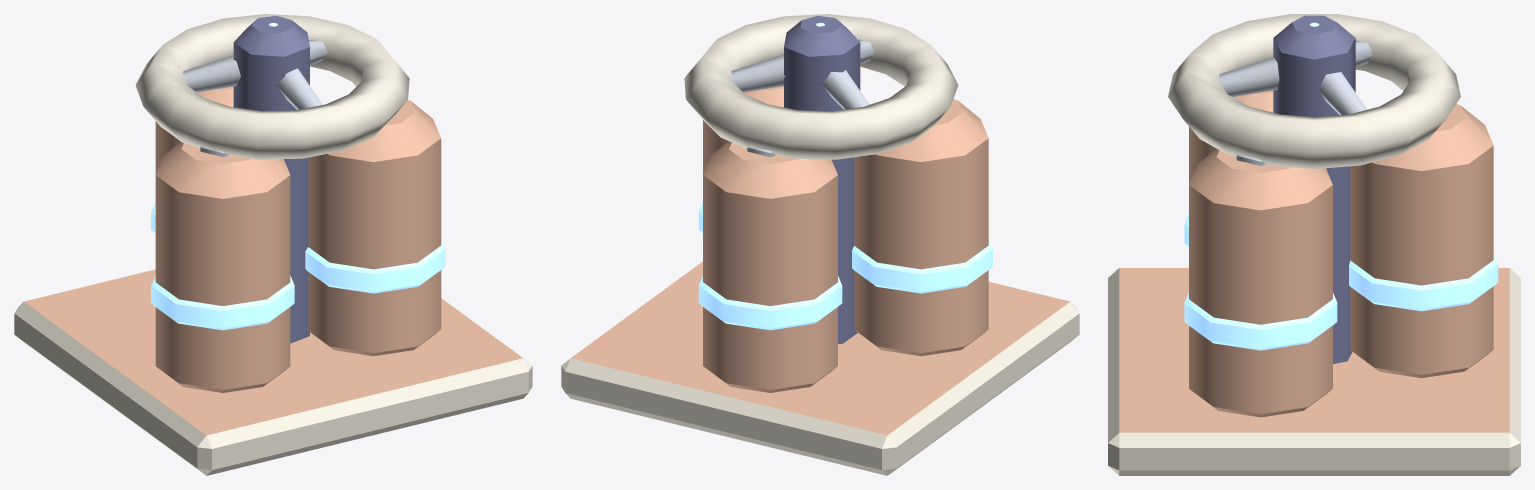
File: R4X_ChargeRegenerator_LOD1.fbx
3 views of the same model, side by side, from view 1: azimuth 30°, elevation 25°; view 2: azimuth 150°, elevation 25°; view 3: azimuth 270°, elevation 25° (orthographic). The views are drawn at different scales.
Visible parts, largest first — view 1: R4X_ChargeRegenerator_LOD1; view 2: R4X_ChargeRegenerator_LOD1; view 3: R4X_ChargeRegenerator_LOD1.
Part boxes in pixels (left/top/right/bottom): R4X_ChargeRegenerator_LOD1: left=14, top=14, right=532, bottom=475; R4X_ChargeRegenerator_LOD1: left=561, top=14, right=1079, bottom=475; R4X_ChargeRegenerator_LOD1: left=1108, top=14, right=1520, bottom=475.
Bounding box in the file's own units: 0.52 × 0.515 × 0.52.
